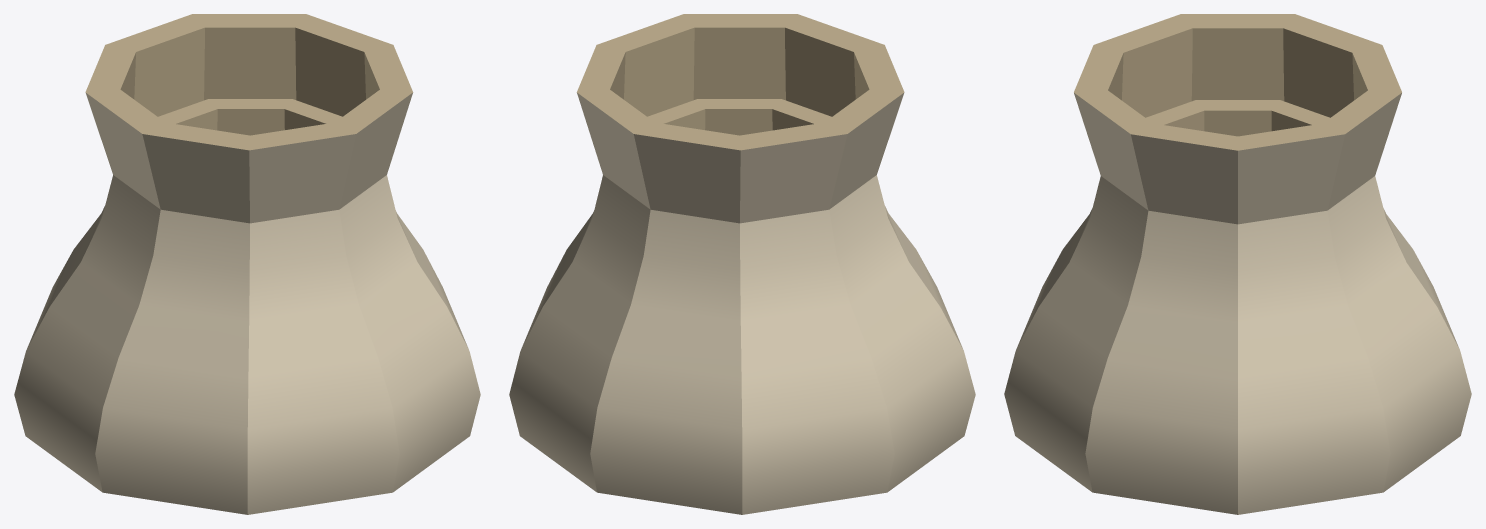
Rendered from vats.fbx.
3 views of the same model, side by side, from view 1: azimuth 30°, elevation 25°; view 2: azimuth 150°, elevation 25°; view 3: azimuth 270°, elevation 25° (orthographic).
Visible parts, largest first — view 1: Vat_Large, Vat_medium; view 2: Vat_Large, Vat_medium; view 3: Vat_Large, Vat_medium.
Part boxes in pixels (x1,y1,x2,y2): Vat_Large: [14, 14, 480, 514]; Vat_medium: [158, 99, 342, 135]; Vat_Large: [509, 14, 975, 514]; Vat_medium: [647, 99, 831, 135]; Vat_Large: [1004, 14, 1471, 514]; Vat_medium: [1146, 100, 1329, 136].
Bounding box in the file's own units: 149 × 121 × 151.
1 material, 1 textured.
